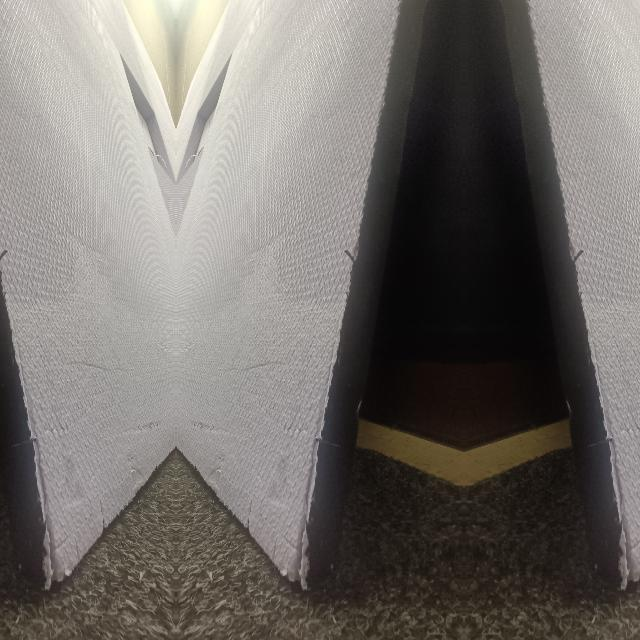obstacle: (176, 159, 398, 587), (0, 159, 173, 587), (530, 159, 640, 587)
